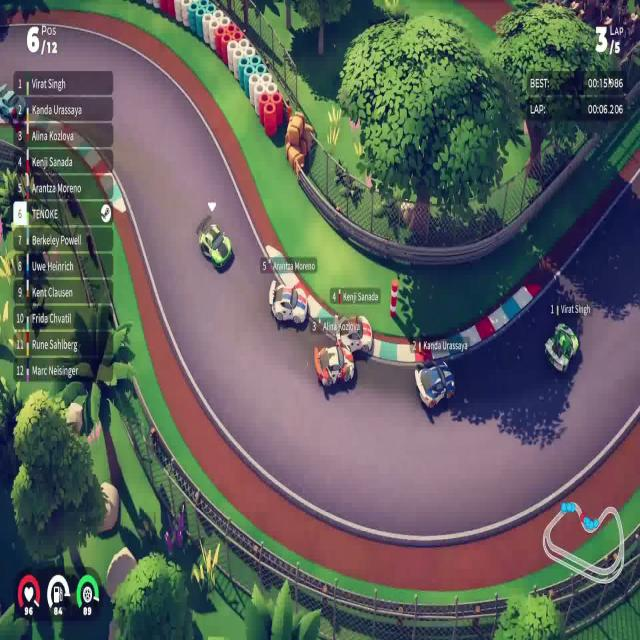car: (414, 358, 455, 410), (313, 341, 355, 389), (544, 322, 579, 374), (268, 280, 307, 326), (198, 222, 232, 272), (336, 313, 374, 355)
